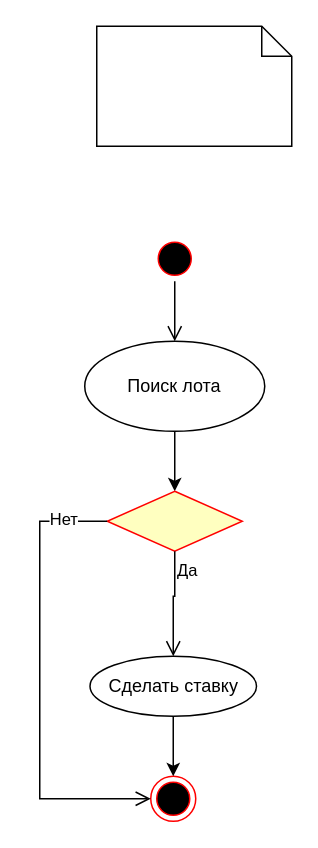
Some shapes in this 318 by 848 pixel diagram are drawn without their labels. Each missing label, with the centre of its shape:
"Есть?" goes at (x=174, y=520).
"Логика ставки на лот" goes at (x=193, y=85).
